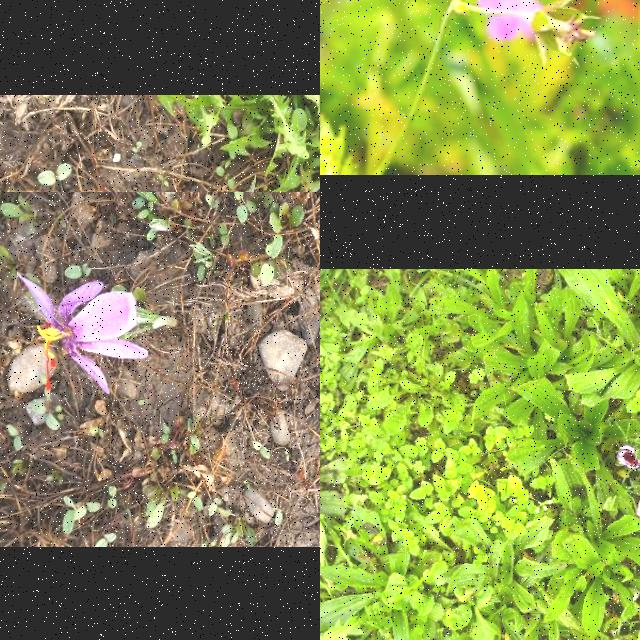flower: (17, 273, 149, 395), (618, 446, 640, 468)
